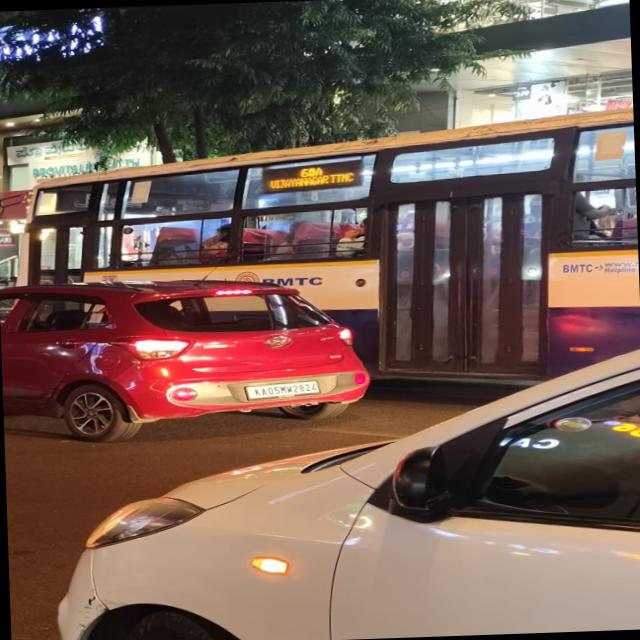bus: (8, 113, 640, 390)
display: (251, 154, 377, 198)
dnumber: (294, 164, 328, 176)
